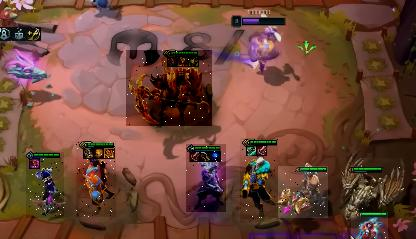1_jayce: (278, 166, 328, 218)
1_terra: (340, 158, 404, 220)
1_xayah: (351, 212, 388, 239)
2_varus: (26, 152, 64, 218)
2_yasuo: (186, 144, 226, 212)
3_graves: (240, 138, 278, 222)
3_hecarim: (126, 50, 212, 126)
3_nilah: (76, 141, 116, 217)
